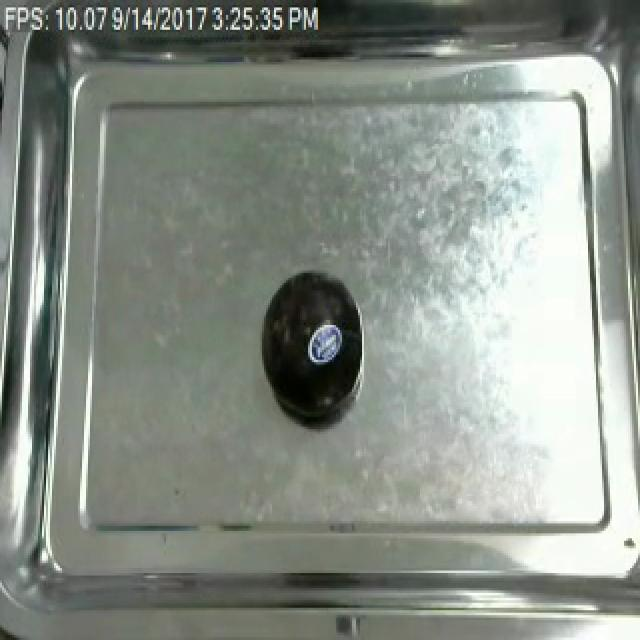Fruit: (254, 263, 366, 422)
